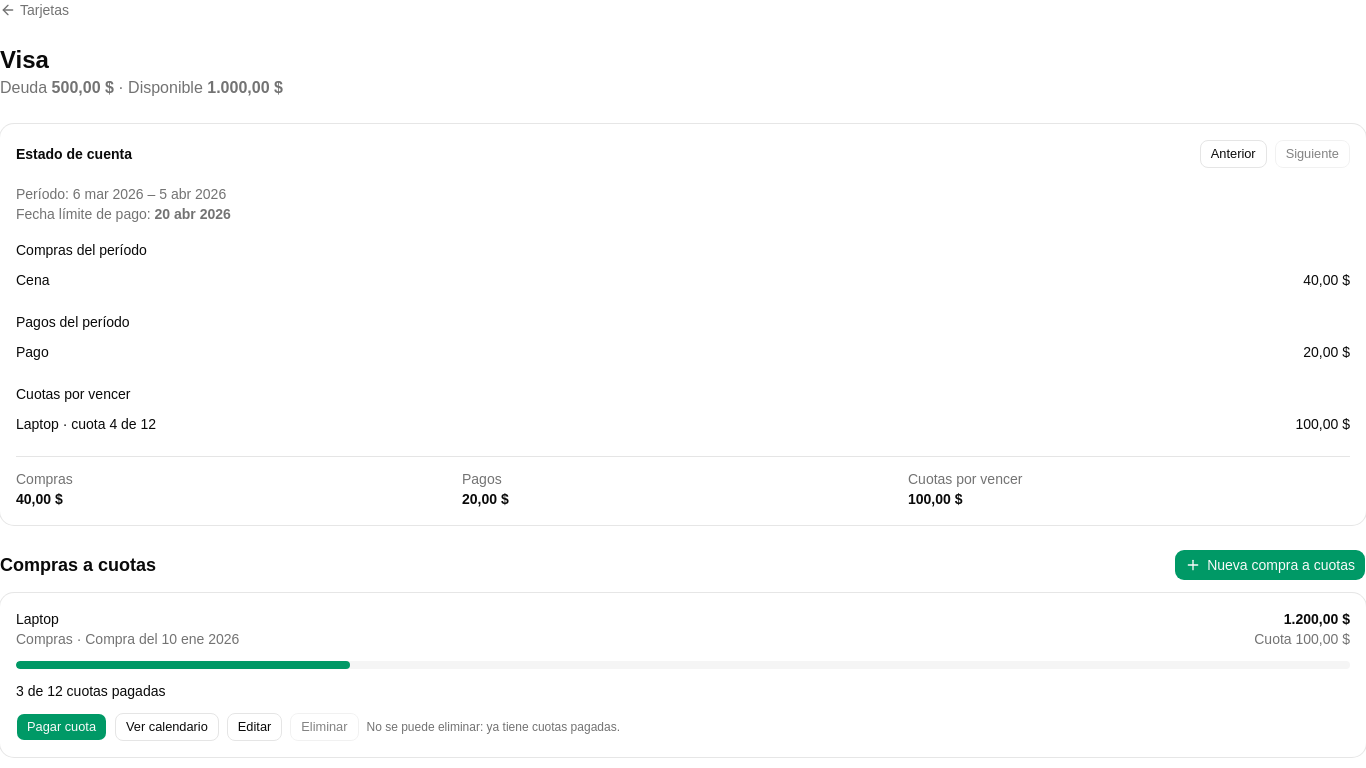
Test: CardDetailPage › requires an account to pay
Expected: the text "Laptop" is shown, [16,611,59,627]
Click the button "Pagar cuota" at (62, 727), box [16,713,107,741]
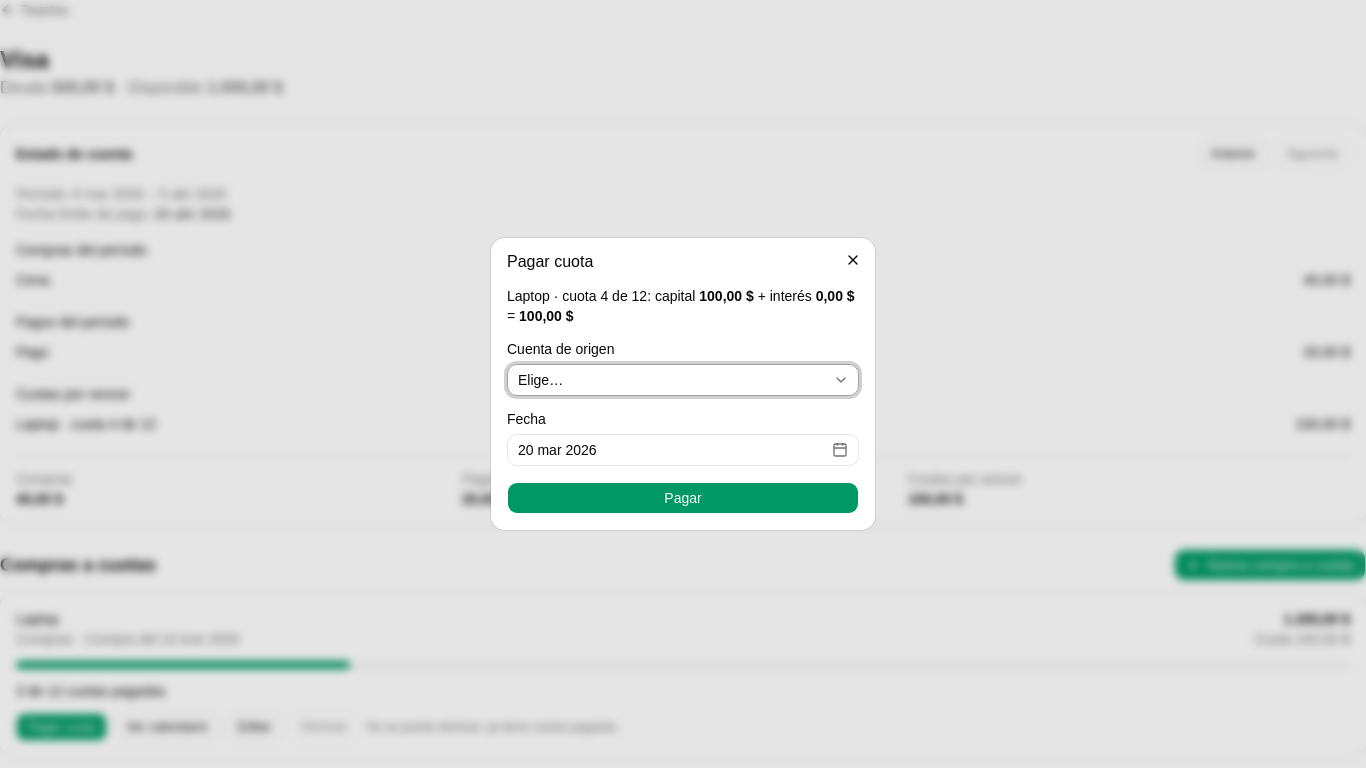
Click the button "Pagar" at (683, 498), box [507,482,859,514]
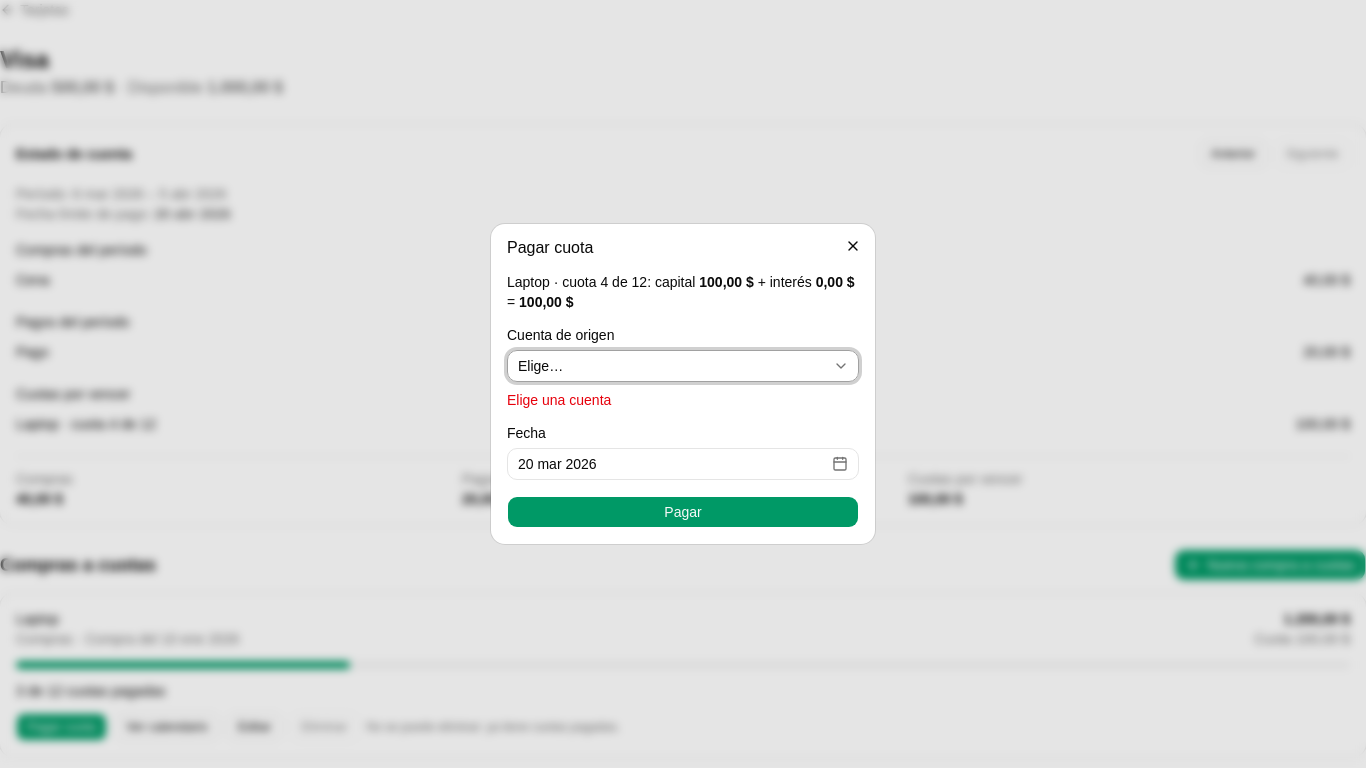
Result: the text "Elige una cuenta" is shown at [507,392,611,408]
